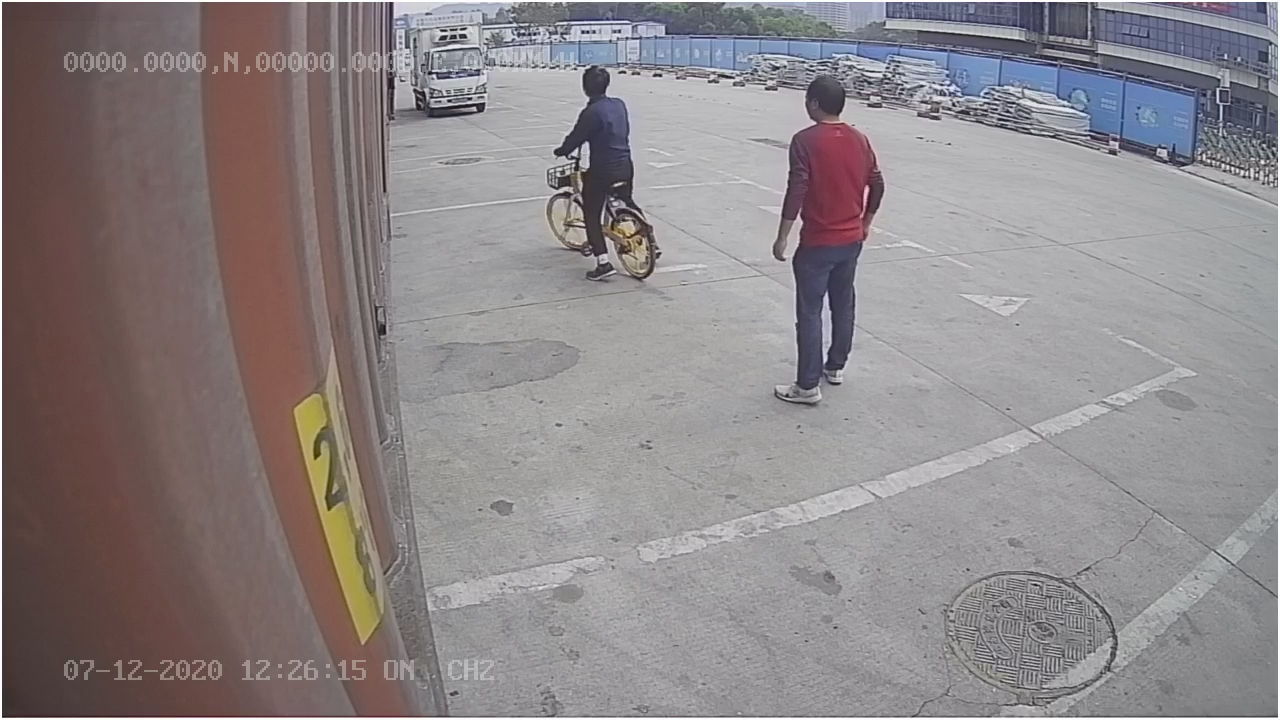person: (768, 73, 885, 415)
